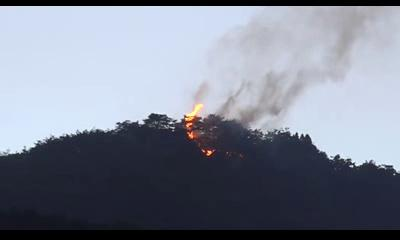fire: (178, 100, 218, 156)
smoke: (215, 7, 377, 111)
